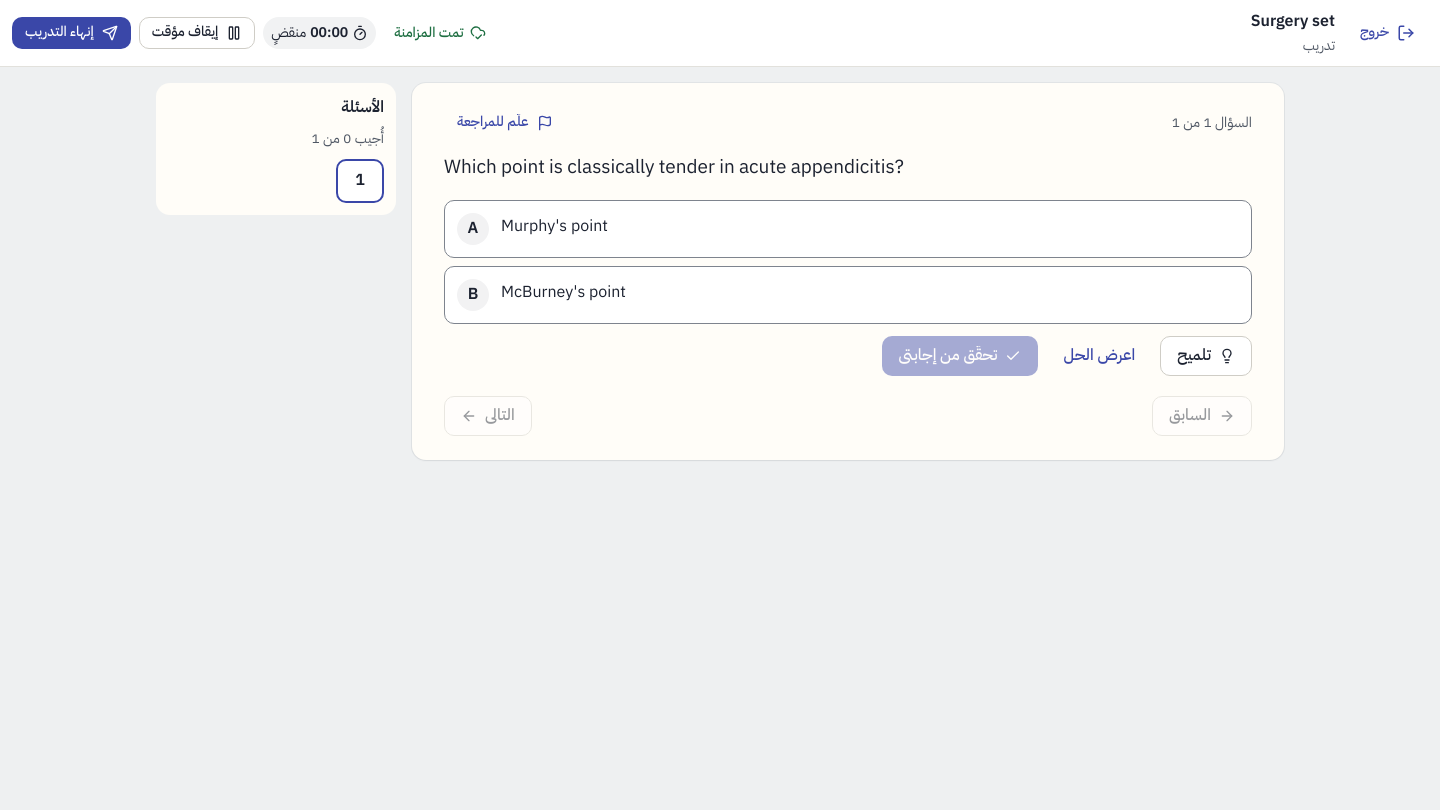
Test case: review fixes — runner › practice: after «تحقّق» the confidence is shown read-only (never re-labelled after the correction)
This screenshot has width=1440, height=810.
Expected: the text "السؤال 1 من 1" is shown, [1171,111,1252,134]
Click the radio button labelled "B McBurney's point". click: {"x": 473, "y": 295}
box: [444,266,1252,324]
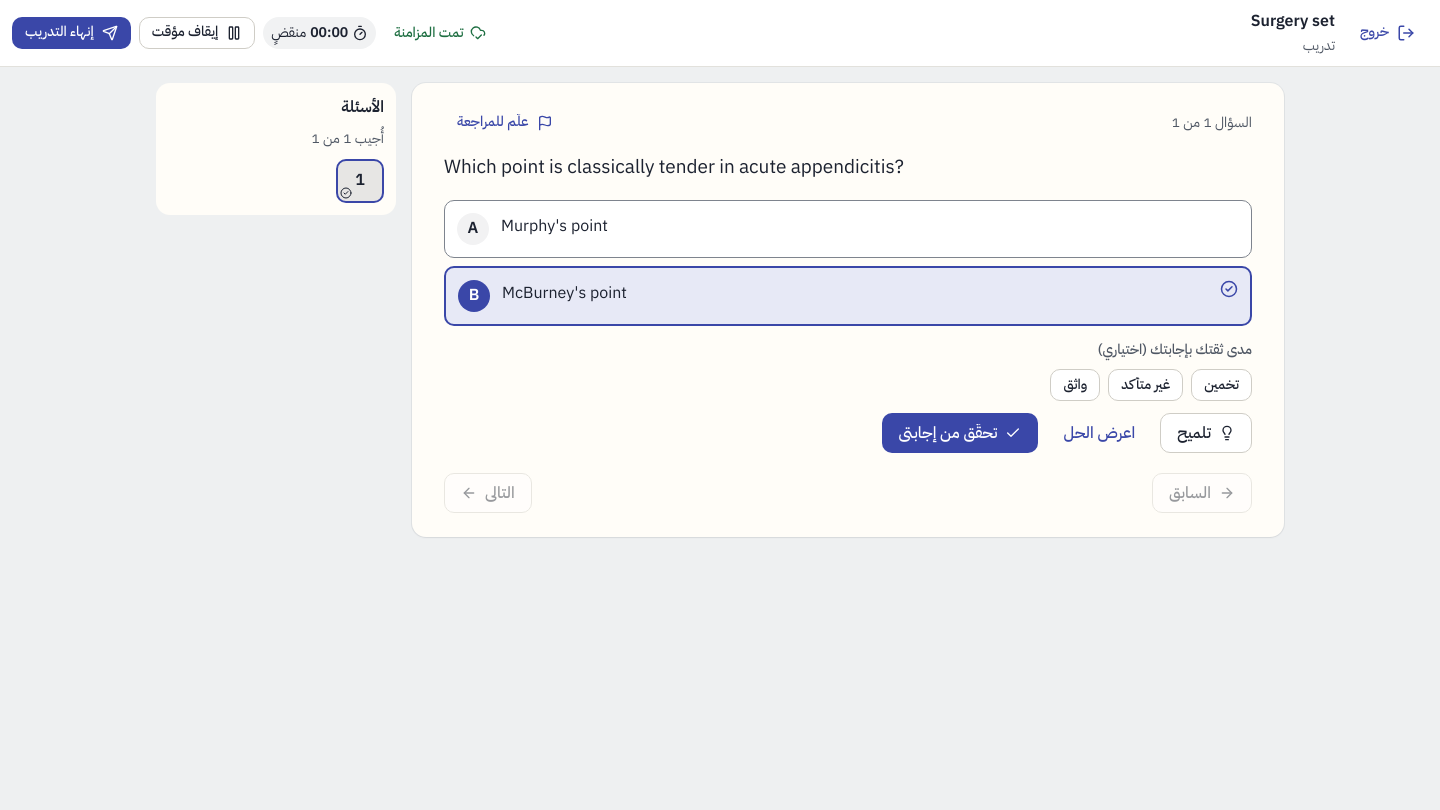
Click the button "تخمين". click: {"x": 1222, "y": 385}
box: [1191,369,1252,401]
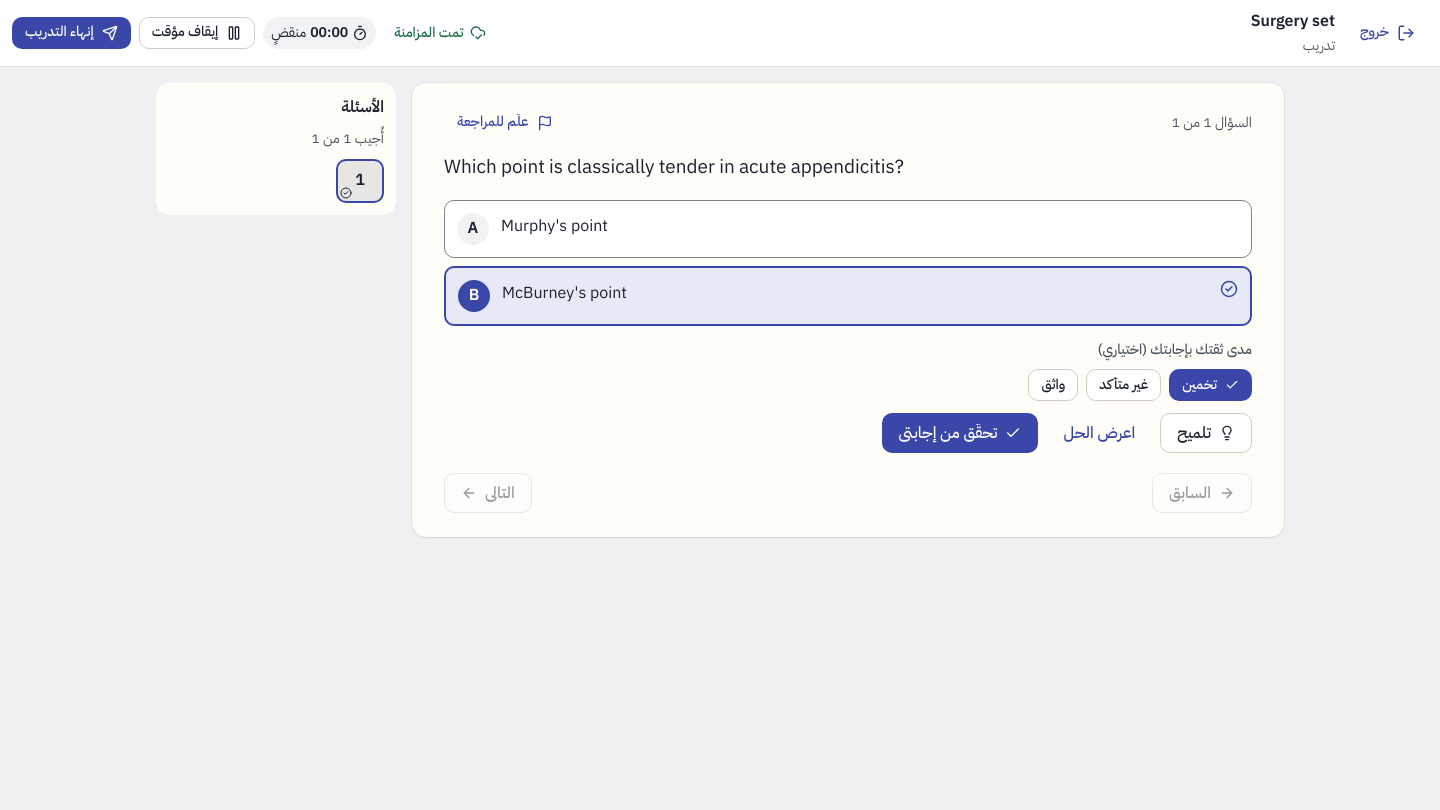
Click the button "تحقّق من إجابتي". click: {"x": 960, "y": 433}
box: [882,413,1038,453]
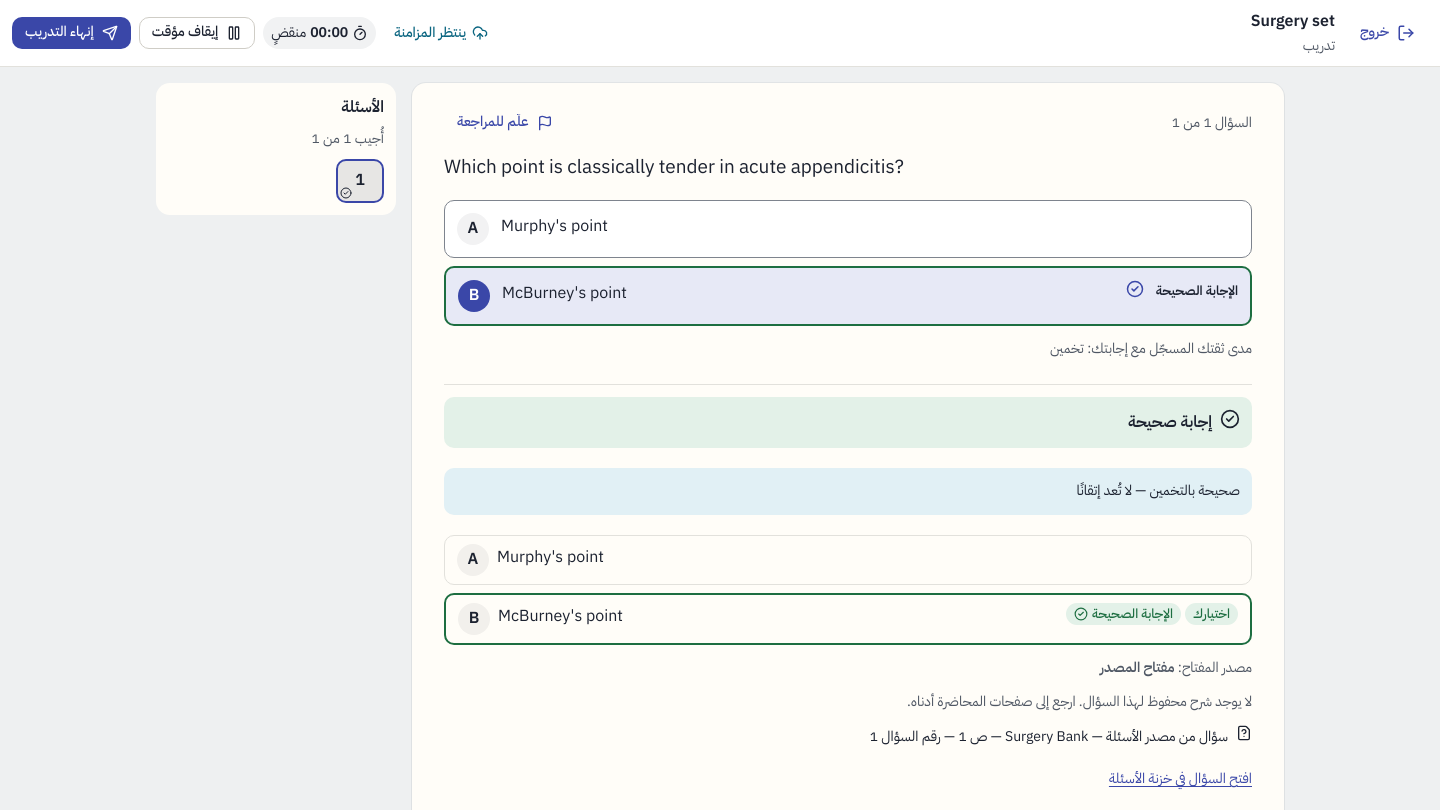
Expected: the text "إجابة صحيحة" is shown, [1128,409,1212,436]
Expected: the button "واثق" is gone
Expected: the text "مدى ثقتك المسجّل مع إجابتك: تخمين" is shown, [1050,338,1252,359]
